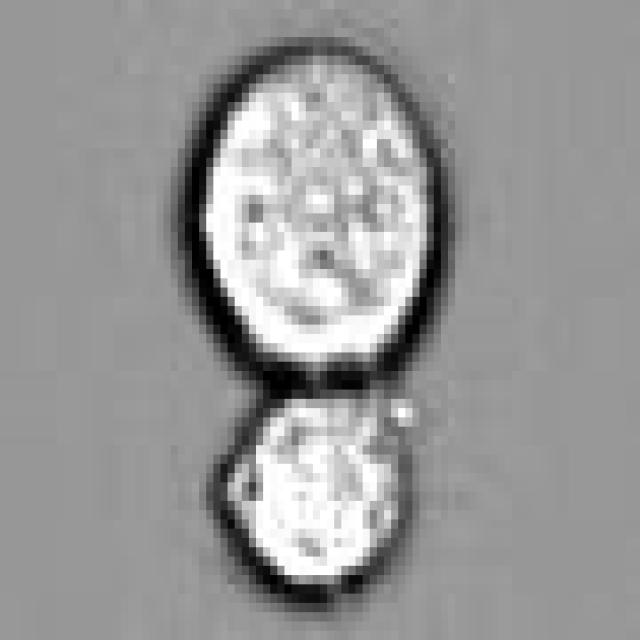Cancer Cell: (185, 37, 441, 371)
WBC: (220, 371, 406, 575)
